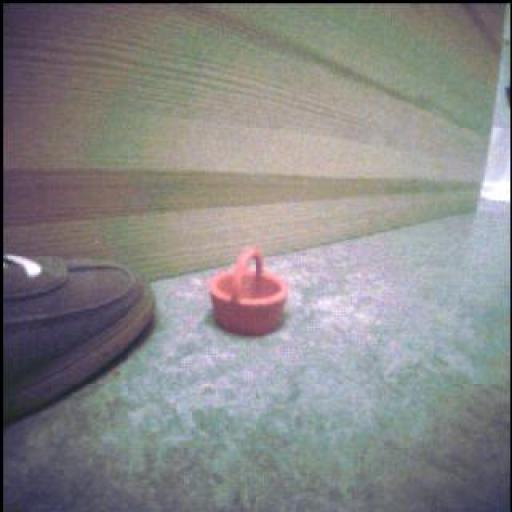Bucket: (211, 249, 289, 337)
